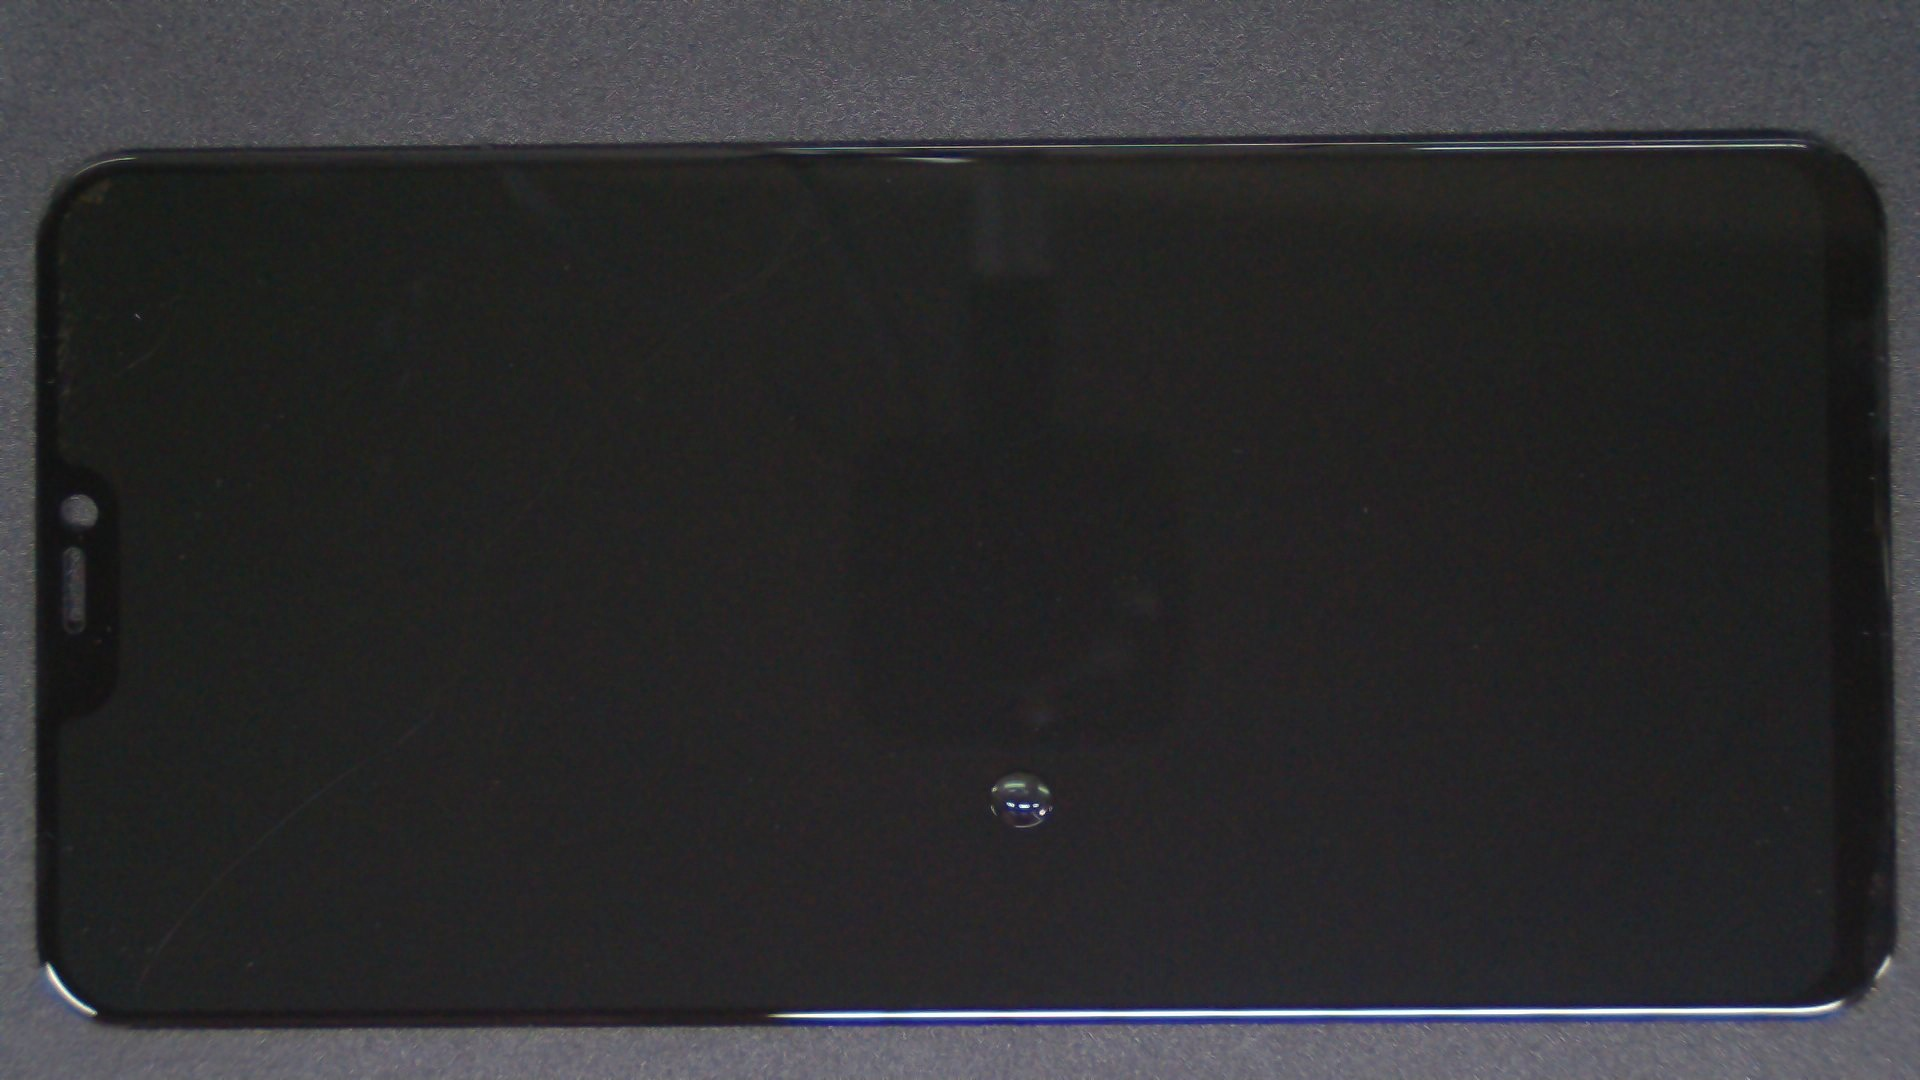oil: (508, 385, 1520, 1080)
